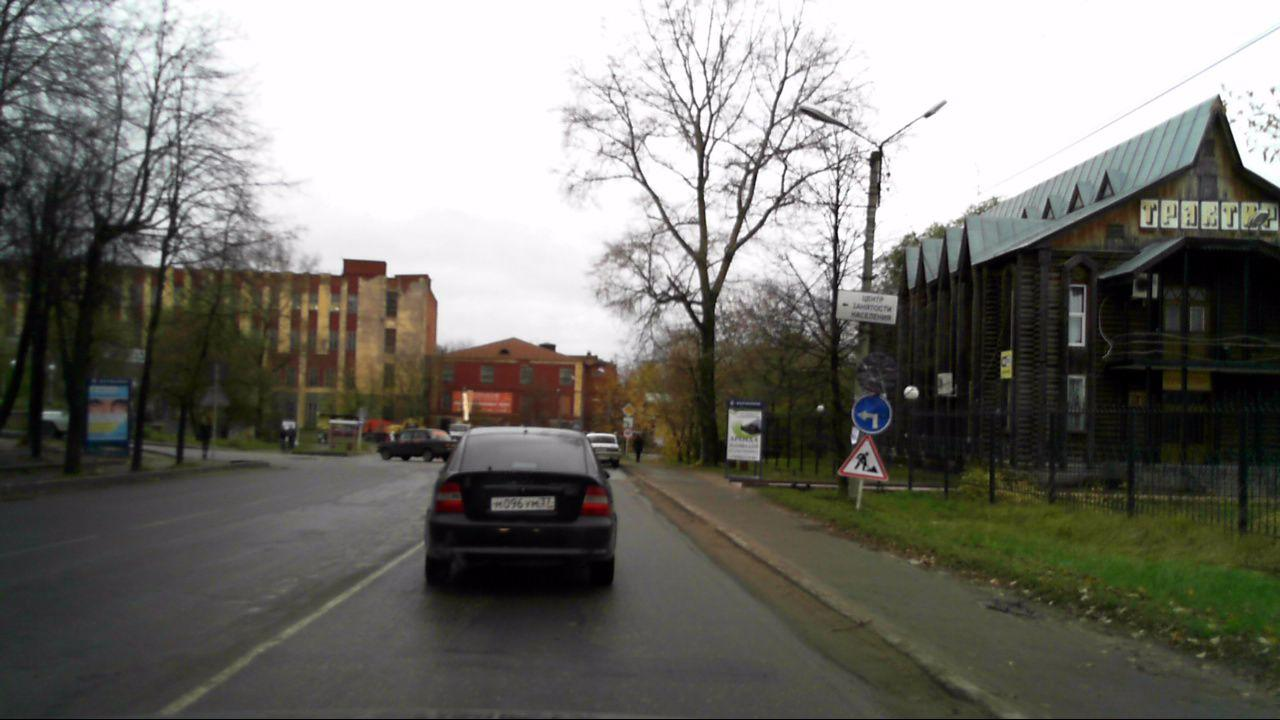1_25: (838, 434, 887, 480)
2_1: (622, 403, 634, 416)
3_24: (623, 428, 634, 439)
4_1_3: (850, 392, 893, 433)
8_13: (622, 418, 634, 428)
